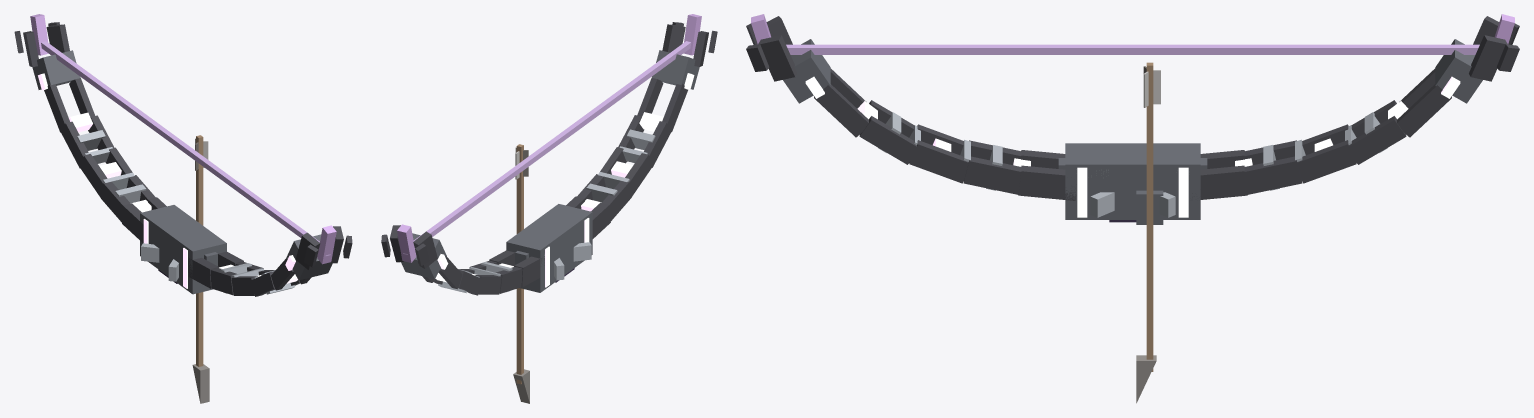
The model's file is art_supernova_greatbow.fbx.
3 renders of one model, left to right at view 1: azimuth 30°, elevation 25°; view 2: azimuth 150°, elevation 25°; view 3: azimuth 270°, elevation 25°, orthographic. The views are drawn at different scales.
Visible parts, largest first — view 1: Handle, BowString, ArrowShaft, SiegeTipU_Anchor, SiegeTipL_Anchor, RailUR_4, RailUR_5, RailLR_1, RailUR_3, RailUR_2, RailUR_1, SiegeTipL_Spike (+16 smaller); view 2: Handle, BowString, ArrowShaft, SiegeTipL_Anchor, SiegeTipU_Anchor, RailLR_5, RailLR_3, RailLR_4, RailLR_2, SiegeTipU_Spike, RailUR_1, RailLL_5 (+16 smaller); view 3: Handle, BowString, ArrowShaft, RailLL_2, RailUL_2, RailLL_1, SiegeTipL_Anchor, SiegeTipU_Anchor, RailUL_3, RailLL_3, RailUL_1, RailUL_4 (+6 smaller).
Boxes of the visible parts, x1=… form: Handle: x1=140, y1=205, x2=226, y2=294; BowString: x1=41, y1=41, x2=330, y2=255; ArrowShaft: x1=196, y1=135, x2=203, y2=366; SiegeTipU_Anchor: x1=32, y1=50, x2=80, y2=89; SiegeTipL_Anchor: x1=286, y1=234, x2=332, y2=280; RailUR_4: x1=61, y1=121, x2=88, y2=168; RailUR_5: x1=44, y1=84, x2=69, y2=132; RailLR_1: x1=188, y1=257, x2=218, y2=288; RailUR_3: x1=80, y1=154, x2=107, y2=197; RailUR_2: x1=101, y1=181, x2=130, y2=222; RailUR_1: x1=122, y1=203, x2=143, y2=243; SiegeTipL_Spike: x1=317, y1=225, x2=336, y2=264; Handle: x1=506, y1=204, x2=592, y2=292; BowString: x1=403, y1=41, x2=691, y2=254; ArrowShaft: x1=516, y1=144, x2=523, y2=384; SiegeTipL_Anchor: x1=652, y1=50, x2=699, y2=89; SiegeTipU_Anchor: x1=401, y1=233, x2=446, y2=278; RailLR_5: x1=662, y1=83, x2=687, y2=131; RailLR_3: x1=625, y1=153, x2=651, y2=197; RailLR_4: x1=644, y1=121, x2=671, y2=167; RailLR_2: x1=602, y1=181, x2=631, y2=221; SiegeTipU_Spike: x1=397, y1=224, x2=416, y2=262; RailUR_1: x1=514, y1=256, x2=544, y2=287; RailLL_5: x1=637, y1=77, x2=663, y2=116; Handle: x1=1065, y1=143, x2=1200, y2=219; BowString: x1=786, y1=44, x2=1479, y2=54; ArrowShaft: x1=1146, y1=62, x2=1153, y2=371; RailLL_2: x1=963, y1=156, x2=1021, y2=194; RailUL_2: x1=1244, y1=156, x2=1302, y2=194; RailLL_1: x1=1018, y1=165, x2=1076, y2=200; SiegeTipL_Anchor: x1=783, y1=39, x2=830, y2=103; SiegeTipU_Anchor: x1=1435, y1=39, x2=1482, y2=103; RailUL_3: x1=1297, y1=140, x2=1356, y2=183; RailLL_3: x1=909, y1=140, x2=968, y2=183; RailUL_1: x1=1192, y1=165, x2=1247, y2=199; RailUL_4: x1=1347, y1=116, x2=1406, y2=164.
Bounding box in the file's own units: 0.5104 × 2.42 × 4.58.
